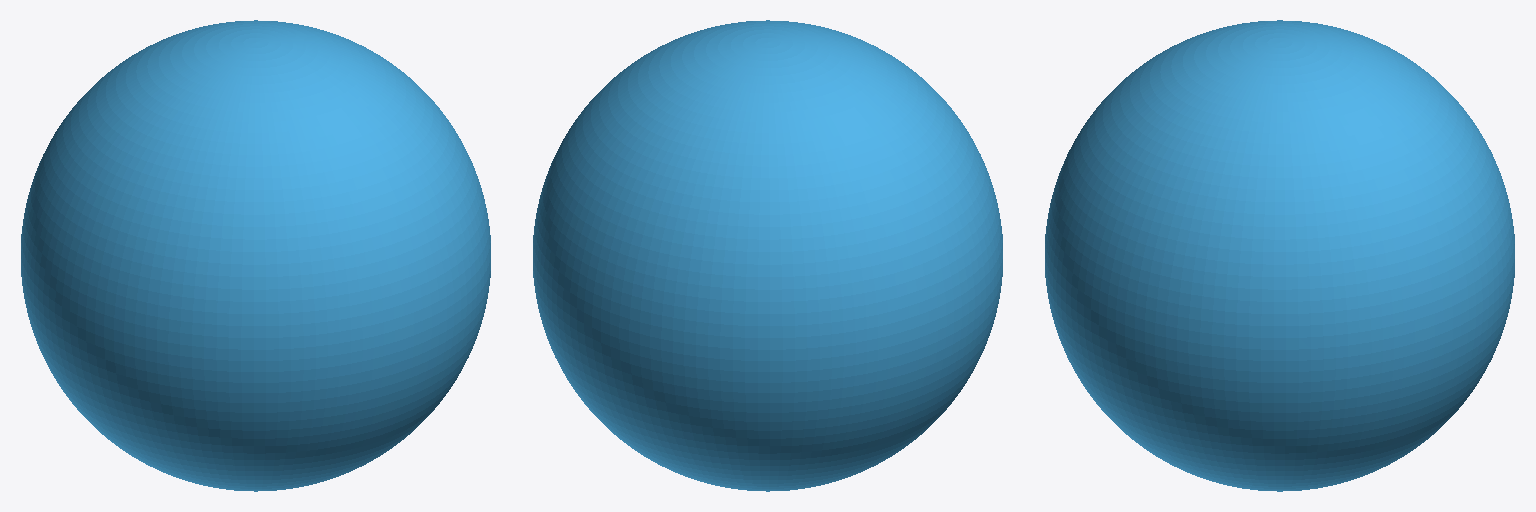
URDF robot description (ball):
<?xml version="1.0" ?>
<!-- =================================================================================== -->
<!-- |    This document was autogenerated by xacro from ball.xacro                     | -->
<!-- |    EDITING THIS FILE BY HAND IS NOT RECOMMENDED                                 | -->
<!-- =================================================================================== -->
<robot name="ball" xmlns:xacro="http://ros.org/wiki/xacro">
  <gazebo reference="ball_link">
    <gravity>1</gravity>
    <maxVel>0.01</maxVel>
    <minDepth>0</minDepth>
    <mu1>0.5</mu1>
    <mu2>0.5</mu2>
    <fdir1>0 0 0</fdir1>
    <kp>1e+13</kp>
    <kd>1.0</kd>
    <selfCollide>0</selfCollide>
    <maxContacts>10</maxContacts>
    <material>Gazebo/White</material>
    <!--      <collision>
         <surface>
            <friction>
               <torsional>
                  <coefficient>1</coefficient>
                  <patch_radius>0</patch_radius>
                  <surface_radius>0</surface_radius>
                  <use_patch_radius>1</use_patch_radius>
                  <ode>
                     <slip>0</slip>
                  </ode>
               </torsional>
            </friction>
            <bounce>
               <restitution_coefficient>0</restitution_coefficient>
               <threshold>1e+06</threshold>
            </bounce>
            <contact>
               <collide_without_contact>0</collide_without_contact>
               <collide_without_contact_bitmask>1</collide_without_contact_bitmask>
               <collide_bitmask>1</collide_bitmask>
               <ode>
                  <soft_cfm>0</soft_cfm>
                  <soft_erp>0.2</soft_erp>
                  <kp>1e+13</kp>
                  <kd>1</kd>
                  <max_vel>0.01</max_vel>
                  <min_depth>0</min_depth>
               </ode>
               <bullet>
                  <split_impulse>1</split_impulse>
                  <split_impulse_penetration_threshold>-0.01</split_impulse_penetration_threshold>
                  <soft_cfm>0</soft_cfm>
                  <soft_erp>0.2</soft_erp>
                  <kp>1e+13</kp>
                  <kd>1</kd>
               </bullet>
            </contact>
         </surface>
      </collision>-->
  </gazebo>
  <link name="base_footprint"/>
  <joint name="body_joint" type="fixed">
    <parent link="base_footprint"/>
    <child link="ball_link"/>
    <origin rpy="0.0 0.0 0.0" xyz="0.0 0.0 0.070"/>
  </joint>
  <link name="ball_link">
    <visual>
      <origin rpy="0 0 0" xyz="0 0 0.0"/>
      <!-- 0.15?! -->
      <geometry>
        <mesh filename="meshes/base/Kugel.stl" scale="0.001 0.001 0.001"/>
      </geometry>
      <cast_shadows>1</cast_shadows>
      <transparency>0</transparency>
      <material name="light_black"/>
    </visual>
    <inertial>
      <origin xyz="0.0 0.0 0.0"/>
      <mass value="0.4"/>
      <inertia ixx="0.001825" ixy="0" ixz="0" iyy="0.001825" iyz="0" izz="0.001825"/>
      <!-- Solid Edge: 0.0198384 -->
    </inertial>
    <collision>
      <origin rpy="0 0 0" xyz="0 0 0"/>
      <geometry>
        <mesh filename="meshes/base/Kugel.stl" scale="0.001 0.001 0.001"/>
      </geometry>
    </collision>
  </link>
</robot>

--- Render facts (derived) ---
Views: 3 orthographic renders of the robot side by side, from view 1: azimuth 30°, elevation 25°; view 2: azimuth 150°, elevation 25°; view 3: azimuth 270°, elevation 25°.
Model ball with 2 links and 1 joints (1 fixed), rooted at base_footprint, posed all joints at 0.
Links seen in each view (by area): view 1: ball_link; view 2: ball_link; view 3: ball_link.
Boxes of the visible links, box(x1,y1,x2,y2) form: ball_link: box(21, 20, 490, 491); ball_link: box(533, 20, 1002, 491); ball_link: box(1045, 20, 1514, 491).
Bounding box of the posed robot: 0.1399 × 0.14 × 0.14 m (x, y, z).
Meshes: 1 distinct files referenced, 1 mesh visuals loaded (1 binary STL).
